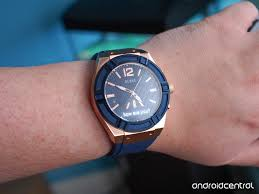clock: (104, 63, 163, 121)
